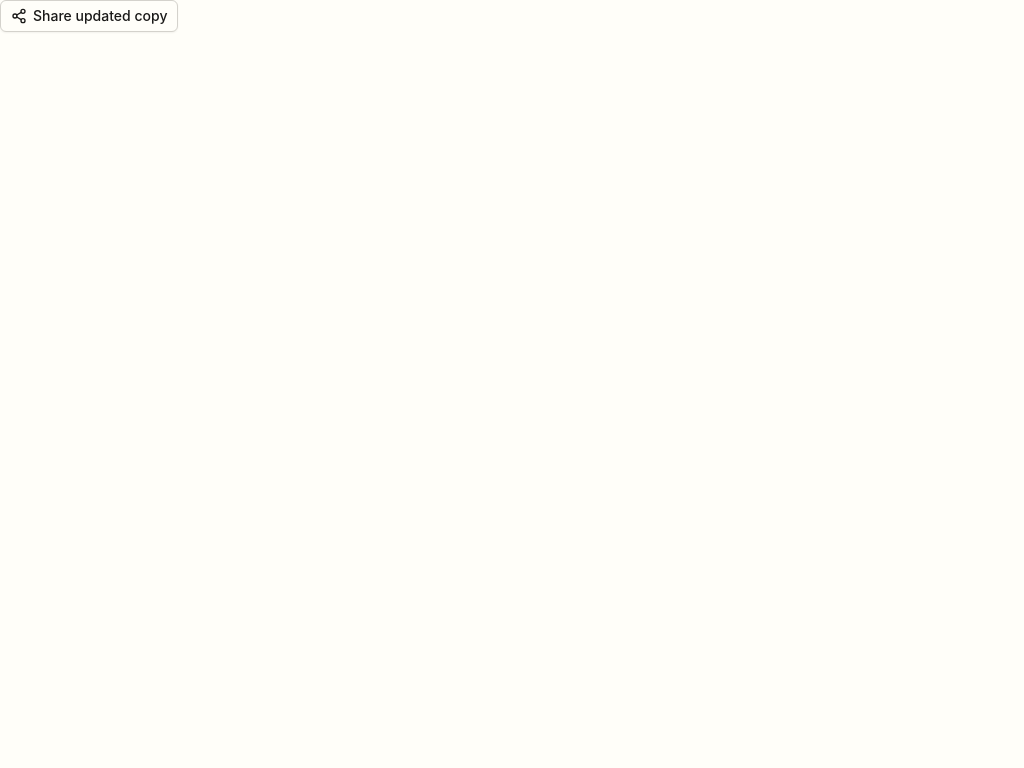
it: ShareBill › explains that sharing a fork keeps the original untouched
Click the button "Share updated copy" at (89, 16), box x1=0 y1=0 x2=178 y2=32
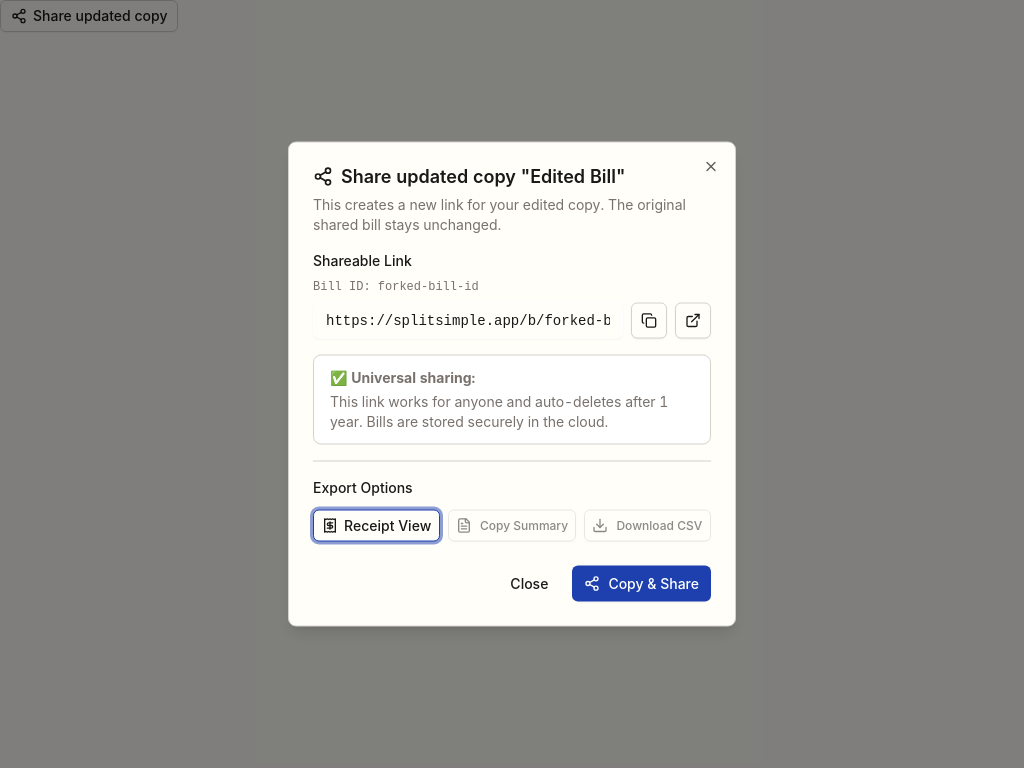
Result: the text "original shared bill stays unchanged" is shown at x1=313 y1=196 x2=686 y2=232
